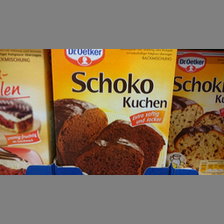cake: (52, 49, 175, 175), (172, 49, 224, 171), (1, 49, 48, 166)
